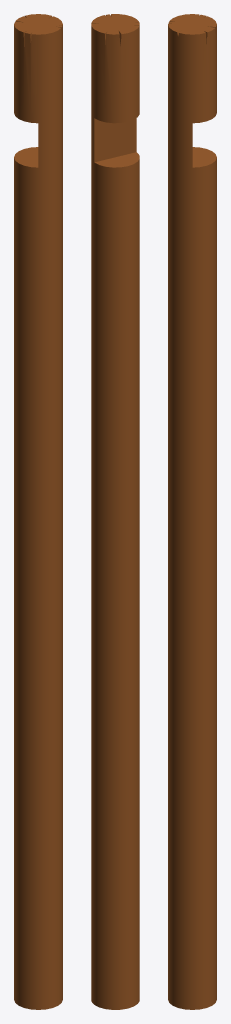
Rendered from Building_Modular_Jetty_Walkway_Timber_Upright_Beam_02.fbx.
The picture shows the model from 3 angles, left to right: view 1: azimuth 90°, elevation 25°; view 2: azimuth 210°, elevation 25°; view 3: azimuth 270°, elevation 25°; orthographic projection.
Visible parts, largest first — view 1: Building_Modular_Jetty_Walkway_Timber_Upright_Beam_02; view 2: Building_Modular_Jetty_Walkway_Timber_Upright_Beam_02; view 3: Building_Modular_Jetty_Walkway_Timber_Upright_Beam_02.
Part boxes in pixels (left/top/right/bottom): Building_Modular_Jetty_Walkway_Timber_Upright_Beam_02: left=14, top=14, right=62, bottom=1009; Building_Modular_Jetty_Walkway_Timber_Upright_Beam_02: left=91, top=14, right=139, bottom=1009; Building_Modular_Jetty_Walkway_Timber_Upright_Beam_02: left=168, top=14, right=216, bottom=1009.
Bounding box in the file's own units: 15.63 × 344 × 15.63.
